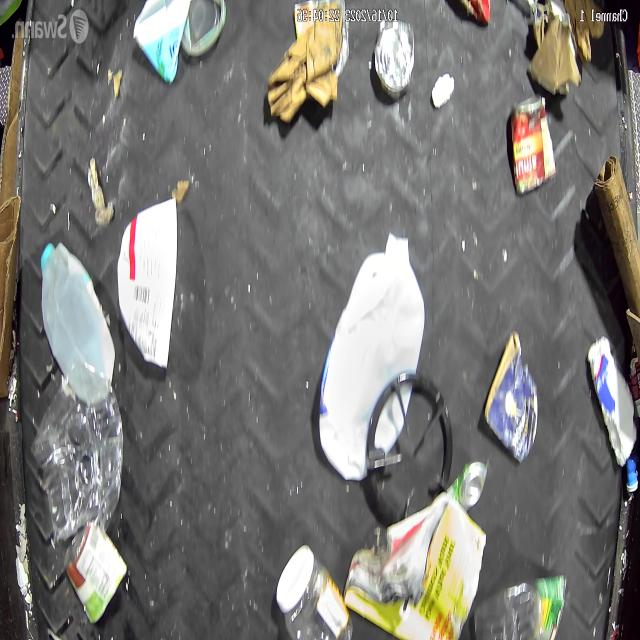can: (62, 514, 128, 624), (372, 11, 424, 104), (510, 89, 556, 193), (452, 454, 489, 509)
milk_jug: (315, 228, 425, 494), (35, 242, 120, 407)
